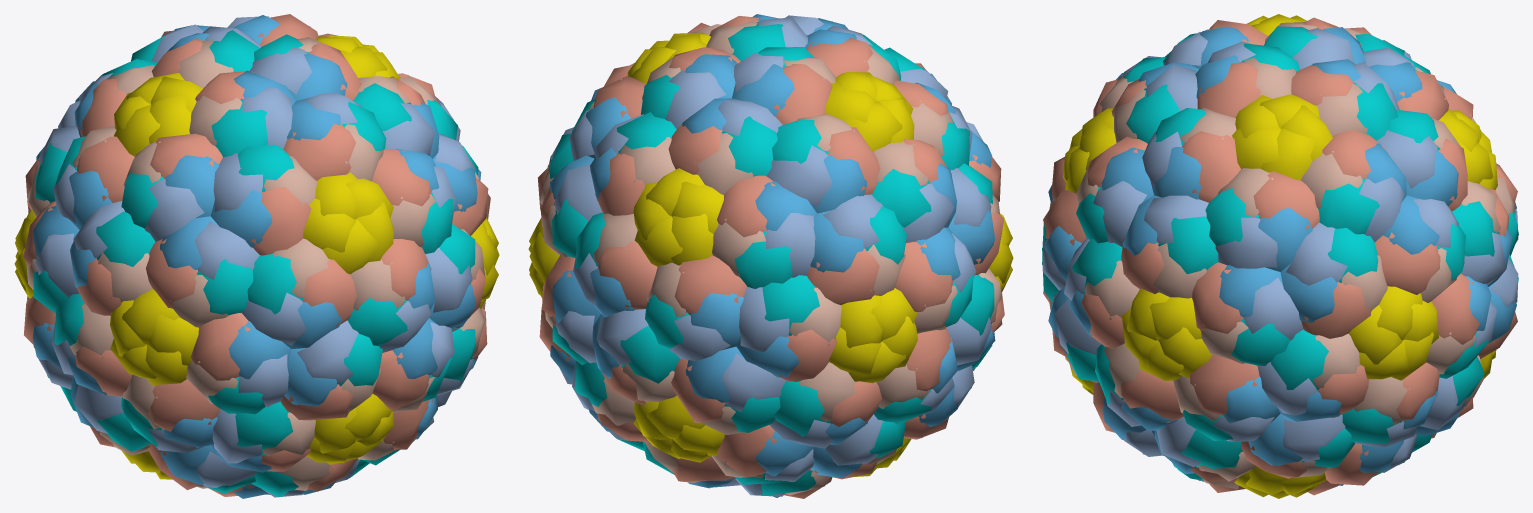
The model's file is hpv_100_cleaned_draco.glb.
The picture shows the model from 3 angles, left to right: view 1: azimuth 30°, elevation 25°; view 2: azimuth 150°, elevation 25°; view 3: azimuth 270°, elevation 25°; orthographic projection.
Parts seen in each view (by area): view 1: 3j6r.cif assembly 1_A Gaussian surface; view 2: 3j6r.cif assembly 1_A Gaussian surface; view 3: 3j6r.cif assembly 1_A Gaussian surface.
Part boxes in pixels (bbox=[...]): 3j6r.cif assembly 1_A Gaussian surface: bbox=[14, 14, 499, 498]; 3j6r.cif assembly 1_A Gaussian surface: bbox=[528, 14, 1013, 498]; 3j6r.cif assembly 1_A Gaussian surface: bbox=[1042, 14, 1518, 498].
Bounding box in the file's own units: 645 × 645 × 645.
